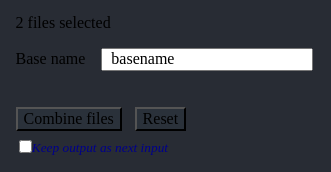
Test TransformCombine › types new basename (wrapper)
// Interact with the input
Type "ABCD" into the field labelled "Base name".
click(207, 60); type("ABCD")  # box [101,48,313,71]
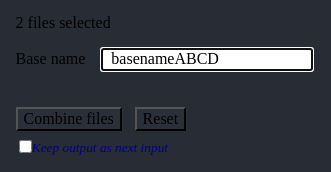
Expected: the field labelled "Base name" holds "basenameABCD", [101,48,313,71]
